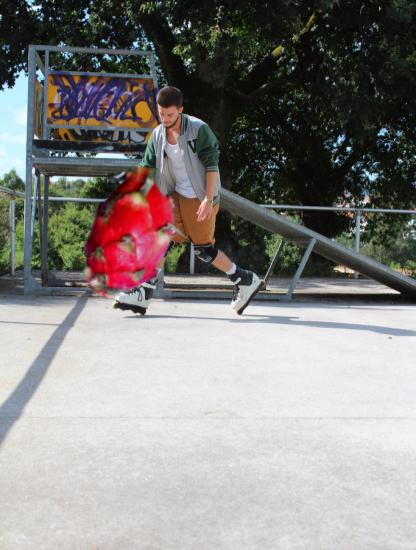Pitahaya: (70, 167, 204, 301)
